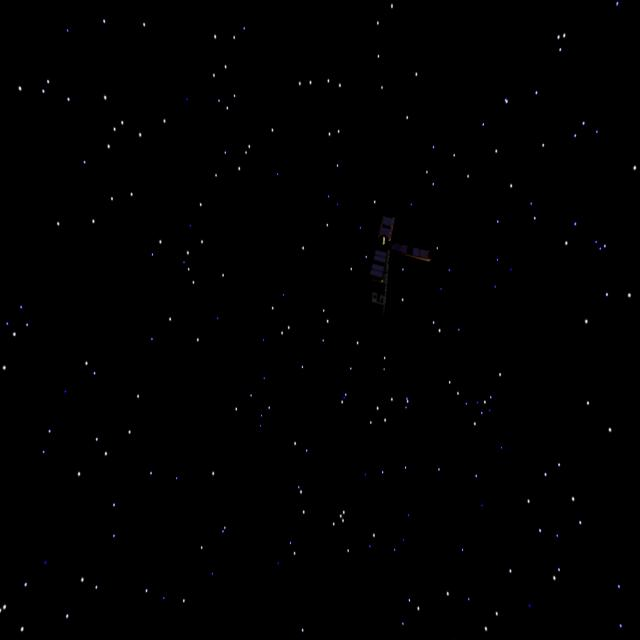satellite: (349, 225, 437, 316)
